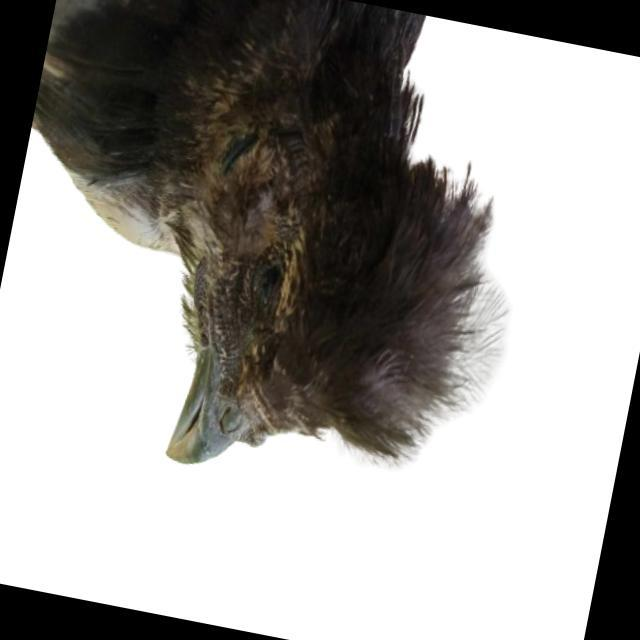Coryza: (220, 202, 322, 351)
